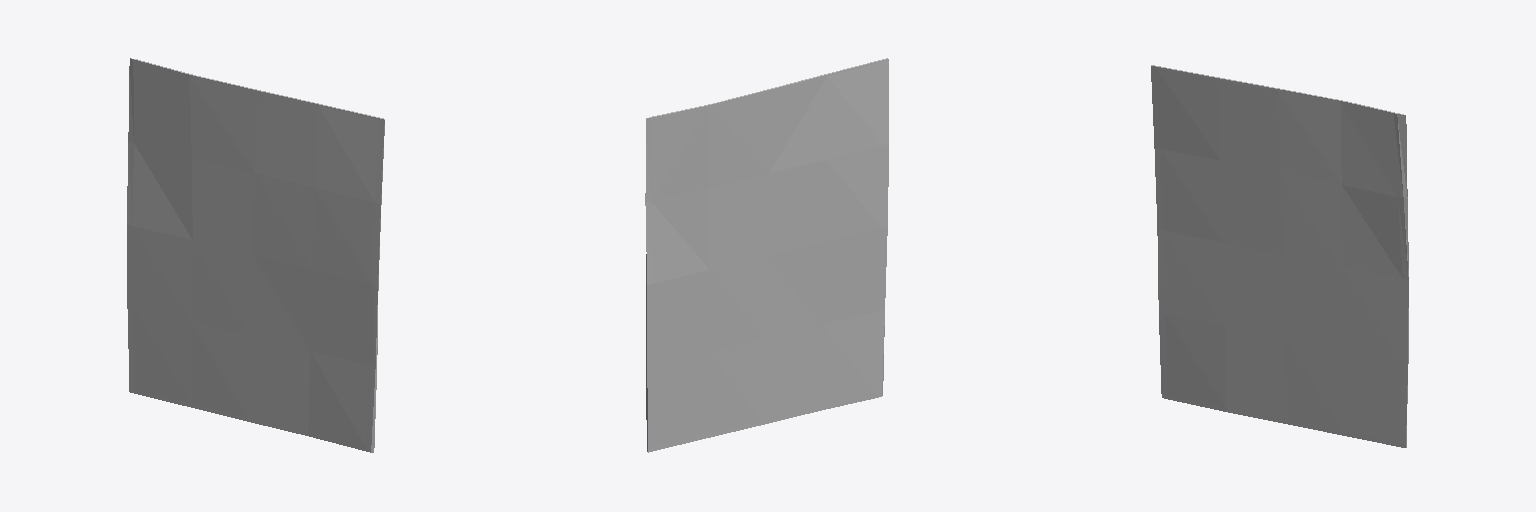
File: Paper.obj
3 views of the same model, side by side, from view 1: azimuth 90°, elevation 25°; view 2: azimuth 150°, elevation 25°; view 3: azimuth 270°, elevation 25° (orthographic).
Visible parts, largest first — view 1: letter3 bed_papers bed witch_tower; view 2: letter3 bed_papers bed witch_tower; view 3: letter3 bed_papers bed witch_tower.
Boxes of the visible parts, x1=… form: letter3 bed_papers bed witch_tower: x1=127, y1=58, x2=384, y2=452; letter3 bed_papers bed witch_tower: x1=645, y1=58, x2=888, y2=452; letter3 bed_papers bed witch_tower: x1=1151, y1=65, x2=1408, y2=447.
Bounding box in the file's own units: 0.3289 × 0.9059 × 0.6264.